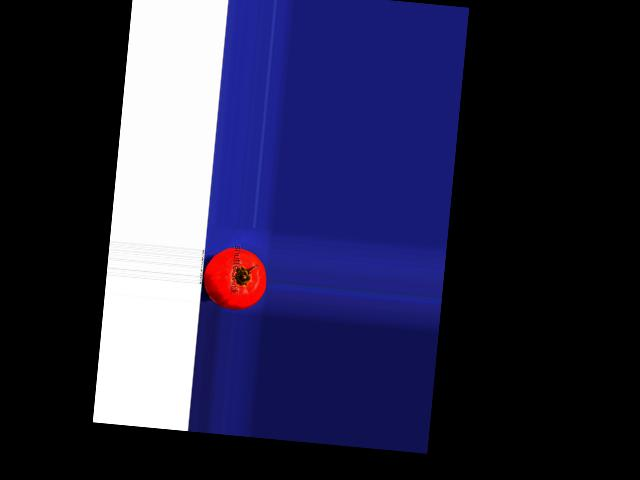tomato: (201, 245, 269, 312)
